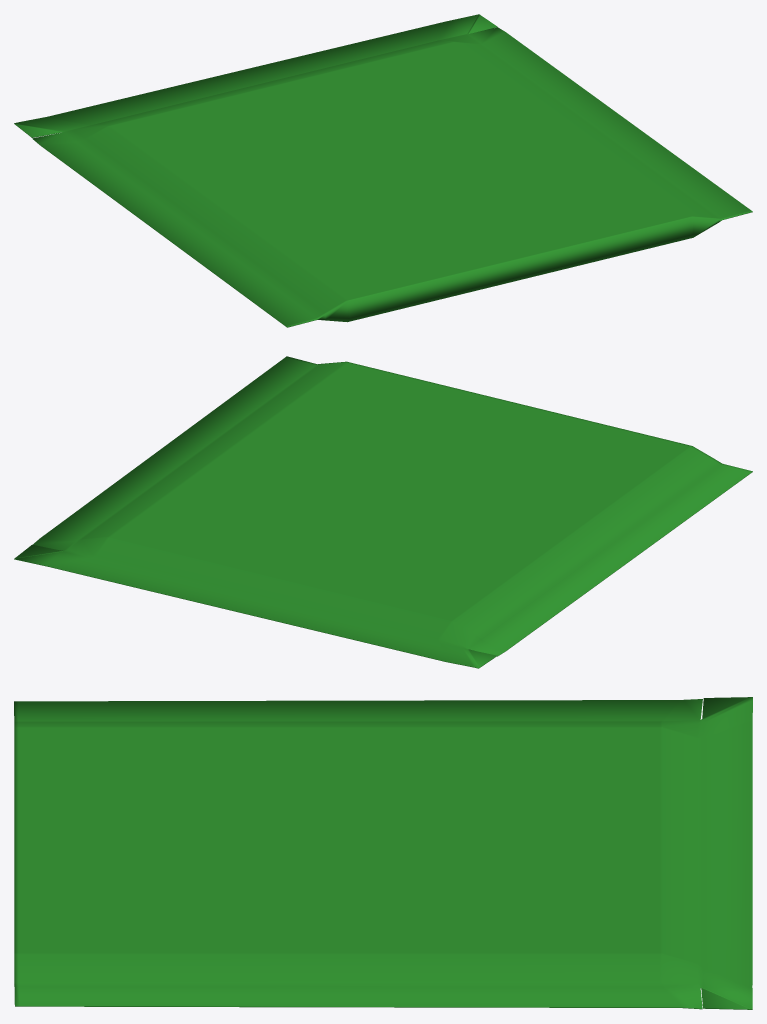
Rendered from teabag.fbx.
The picture shows the model from 3 angles, top to bottom: view 1: azimuth 30°, elevation 25°; view 2: azimuth 150°, elevation 25°; view 3: azimuth 270°, elevation 25°; orthographic projection. The views are drawn at different scales.
Visible parts, largest first — view 1: WiningsTeaBag; view 2: WiningsTeaBag; view 3: WiningsTeaBag.
Boxes of the visible parts, box(x1,y1,x2,y2) form: WiningsTeaBag: box(14, 14, 752, 327); WiningsTeaBag: box(14, 356, 752, 668); WiningsTeaBag: box(14, 697, 752, 1009).
Bounding box in the file's own units: 3.27 × 0.1375 × 3.33.
